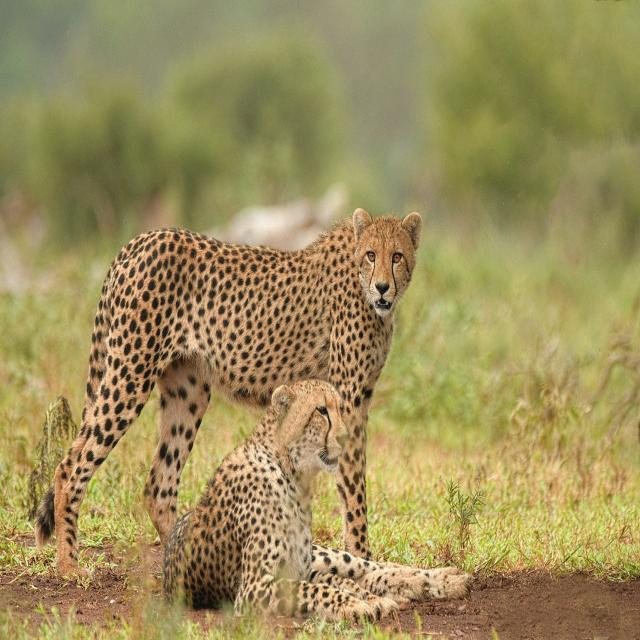Cheetah: (38, 197, 426, 554)
